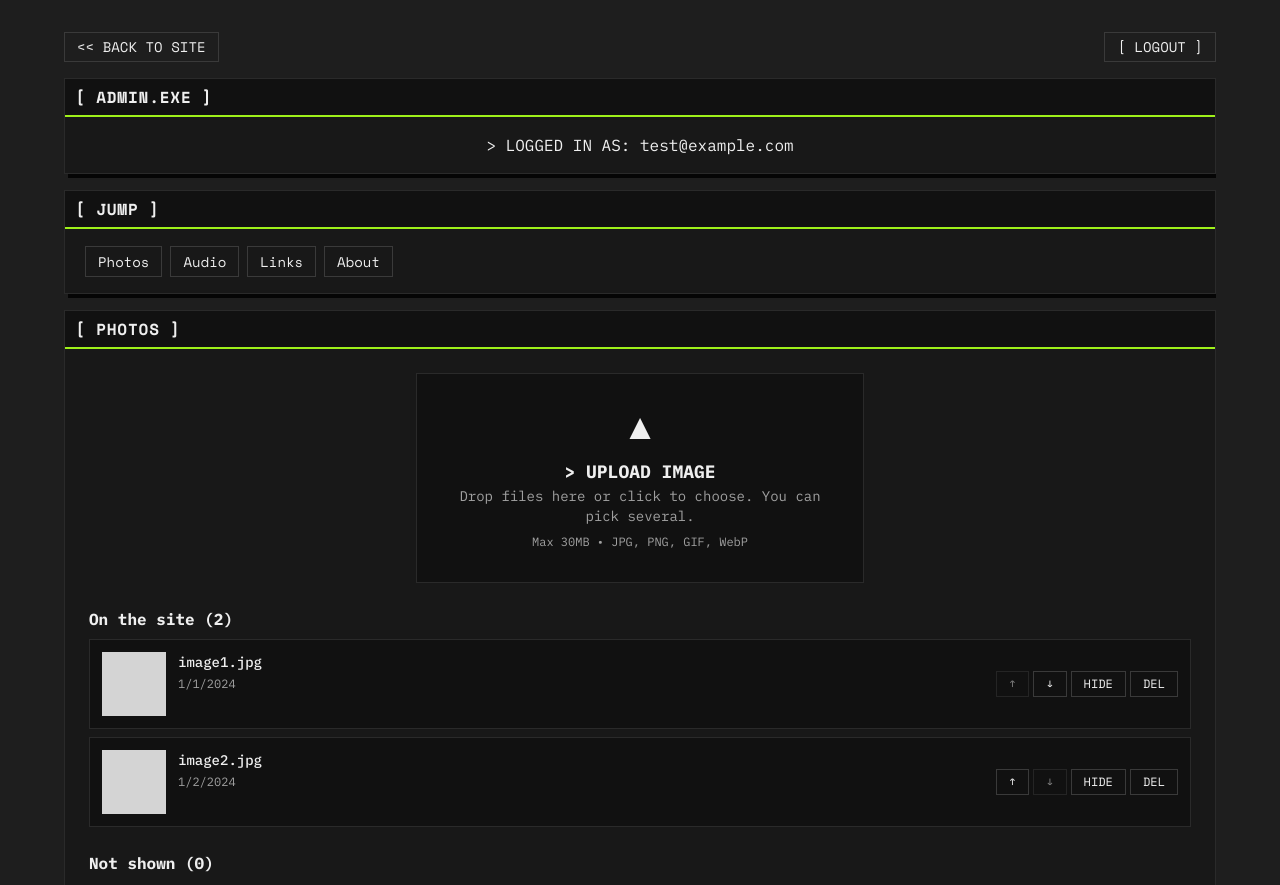
Test: AdminPage › handles fetch error in moveImage
The width and height of the screenshot is (1280, 885).
Check: the text "image1.jpg" is shown, box left=178, top=652, right=262, bottom=672
What coordinates should you click on to do the following:
click the button "↓" in the row of "1/1/2024"
I would click on:
 (1050, 684)
Its box is left=1033, top=671, right=1067, bottom=697.
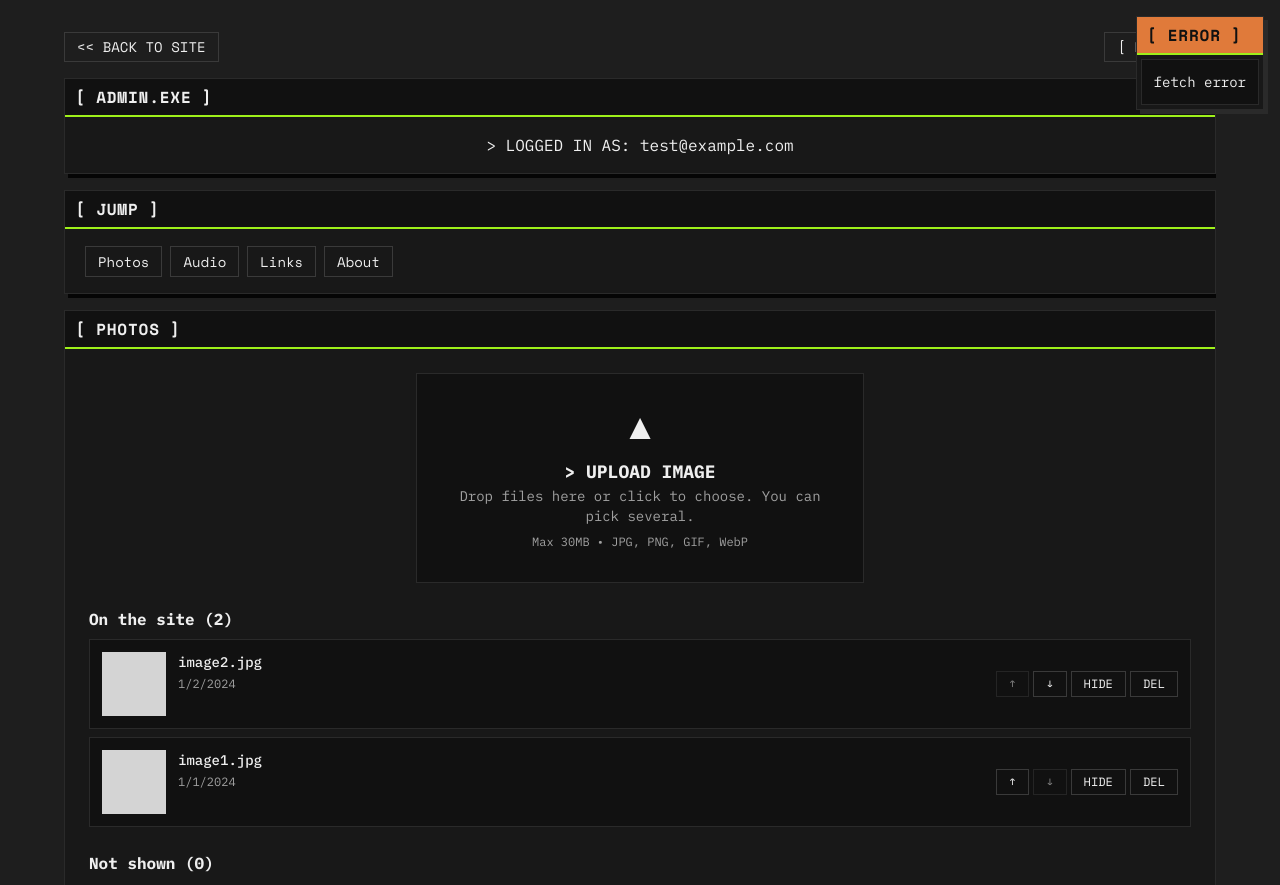
Check: the message shows "fetch error", box left=1154, top=73, right=1246, bottom=91
